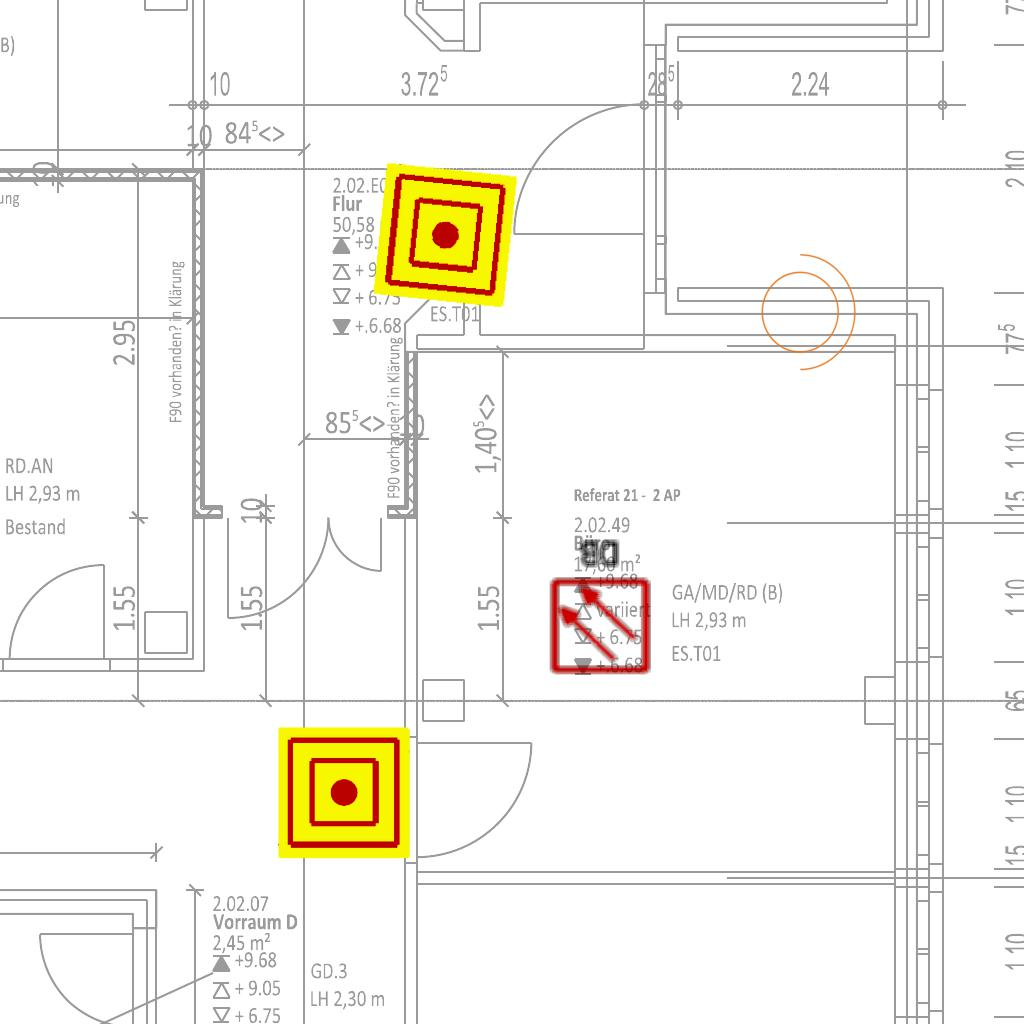DB_Melder_in_Doppelboden_mit_Revisionsoeffnung_mind_40_x_40_cm: (542, 531, 656, 680)
NAM-Nichtautomatischer_Melder: (372, 162, 518, 308), (278, 727, 410, 859)
Scheinwerfer_fuer_Alarmbeleuchtung: (749, 243, 861, 375)
